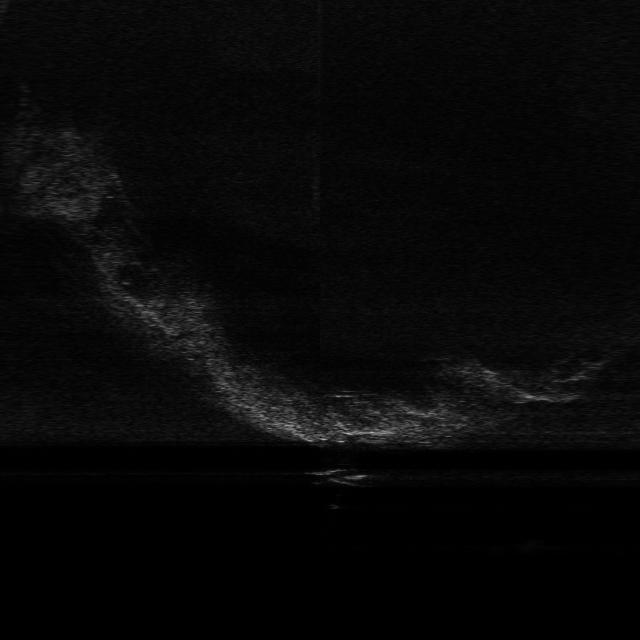plane: (300, 466, 378, 490)
